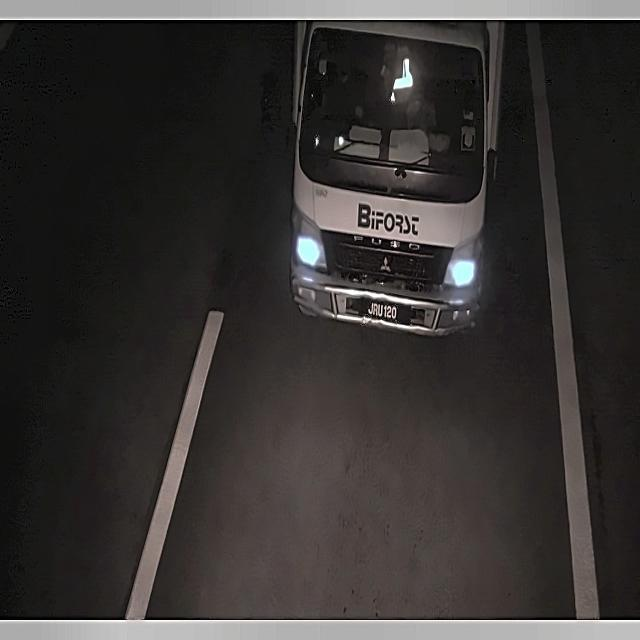car: (354, 290, 416, 334)
